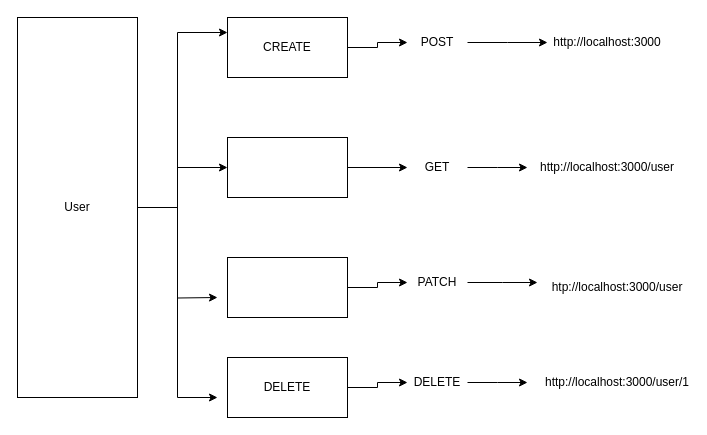
This 707x435 diagram has some shape labels left out. Here are the shapes that lost their labels. From the top down, the box of each, then its label:
(226, 136, 348, 198): READ
(226, 256, 348, 318): UPDATE
